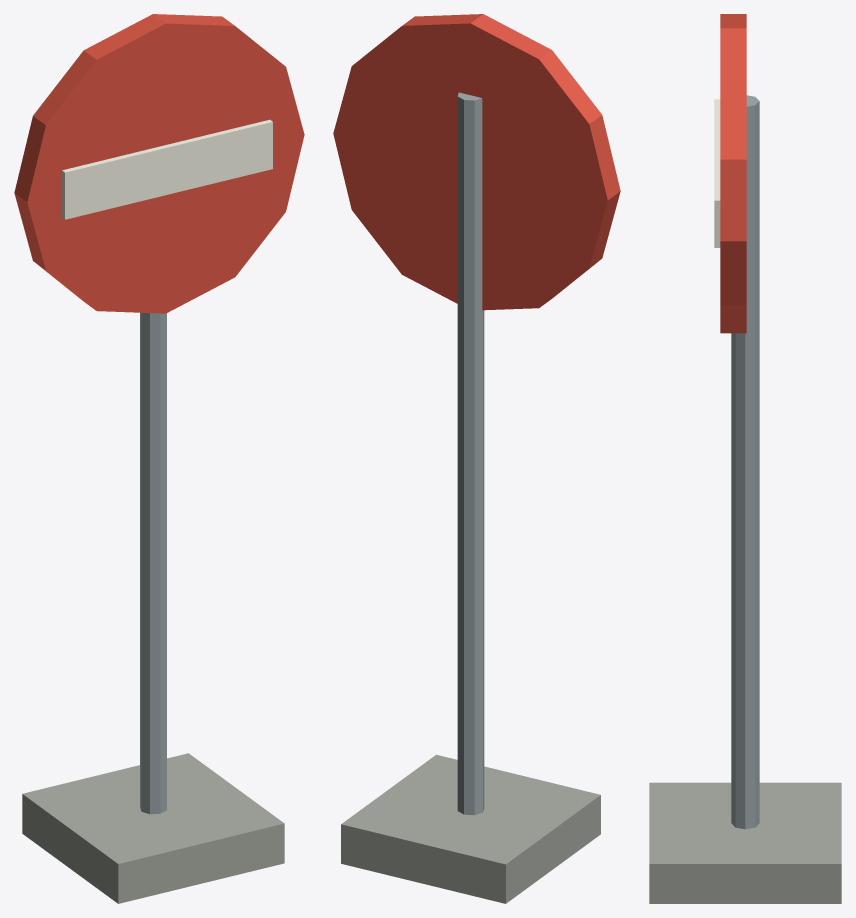
File: TR3_Sign_NoEntry.glb
3 renders of one model, left to right at view 1: azimuth 30°, elevation 25°; view 2: azimuth 150°, elevation 25°; view 3: azimuth 270°, elevation 25°, orthographic.
Visible parts, largest first — view 1: TR3_Sign_NoEntry; view 2: TR3_Sign_NoEntry; view 3: TR3_Sign_NoEntry.
Part boxes in pixels (x1,y1,x2,y2): TR3_Sign_NoEntry: (14,14,304,903); TR3_Sign_NoEntry: (333,14,620,903); TR3_Sign_NoEntry: (649,14,841,903).
Size of the model in its own units: 0.8 by 2.3 by 0.48.
